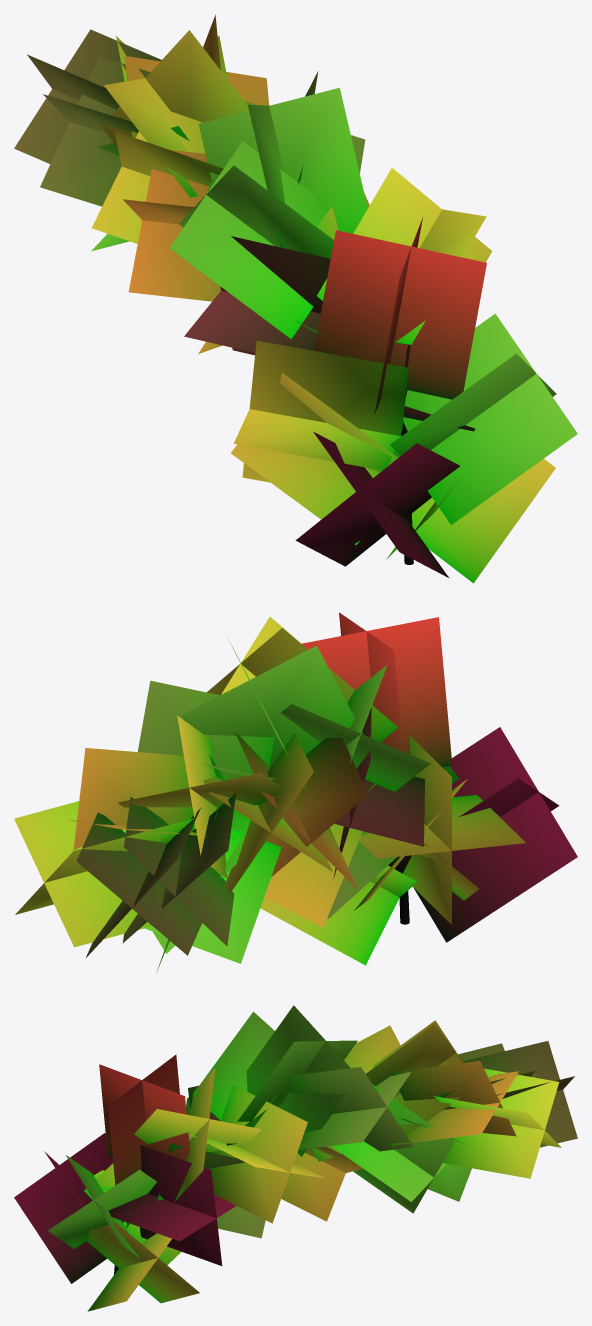
File: Tree_10.fbx
3 views of the same model, one above another, from view 1: azimuth 30°, elevation 25°; view 2: azimuth 150°, elevation 25°; view 3: azimuth 270°, elevation 25° (orthographic). The views are drawn at different scales.
Parts seen in each view (by area): view 1: Tree_10; view 2: Tree_10; view 3: Tree_10.
Boxes of the visible parts, bbox=[...] form: Tree_10: bbox=[14, 14, 577, 583]; Tree_10: bbox=[14, 612, 577, 973]; Tree_10: bbox=[14, 1005, 577, 1311].
Bounding box in the file's own units: 1077 × 1355 × 2449.
